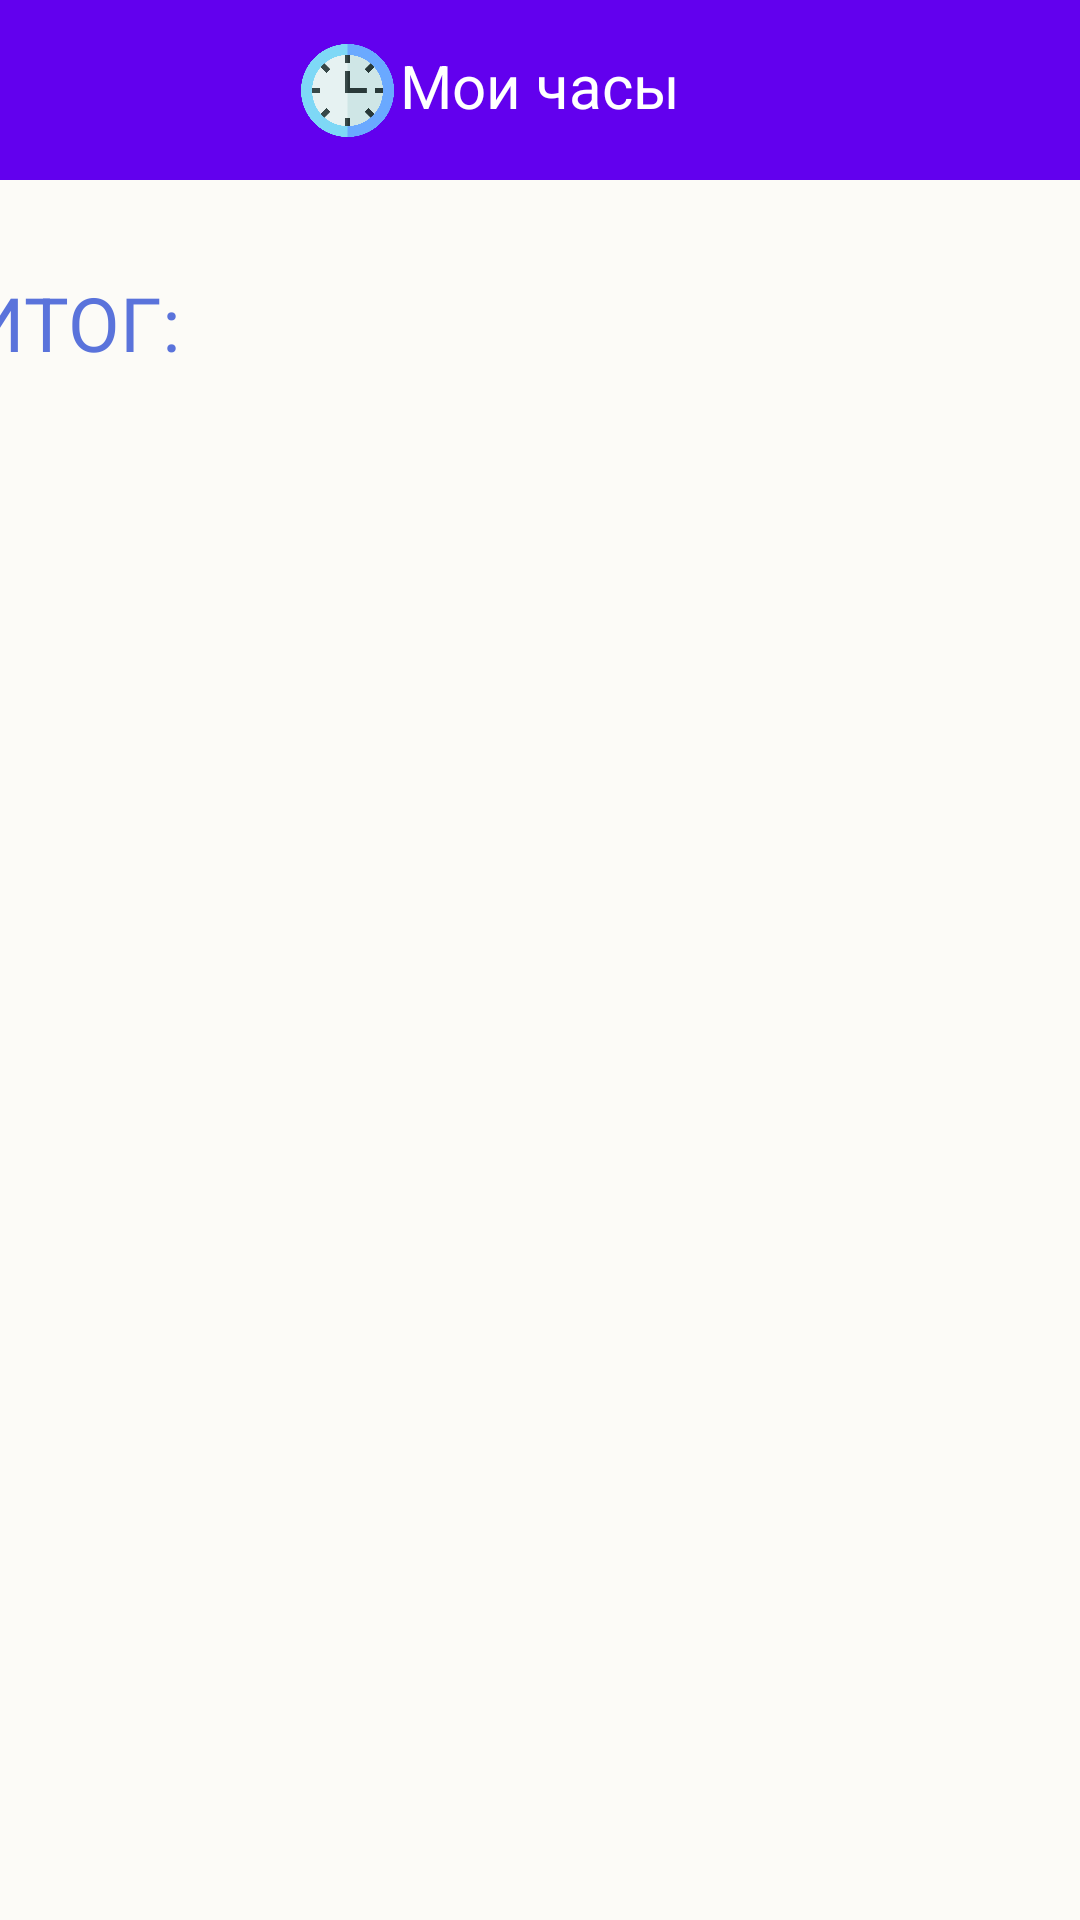

Screen size 1080w x 1920h. Icon name, then its box in pixels as [x1=x1, y1=y1, x2=x2, y2=y2]:
clock: [x1=301, y1=44, x2=394, y2=137]
